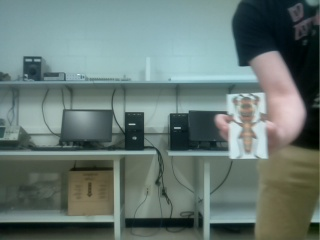Angry: (226, 93, 268, 159)
